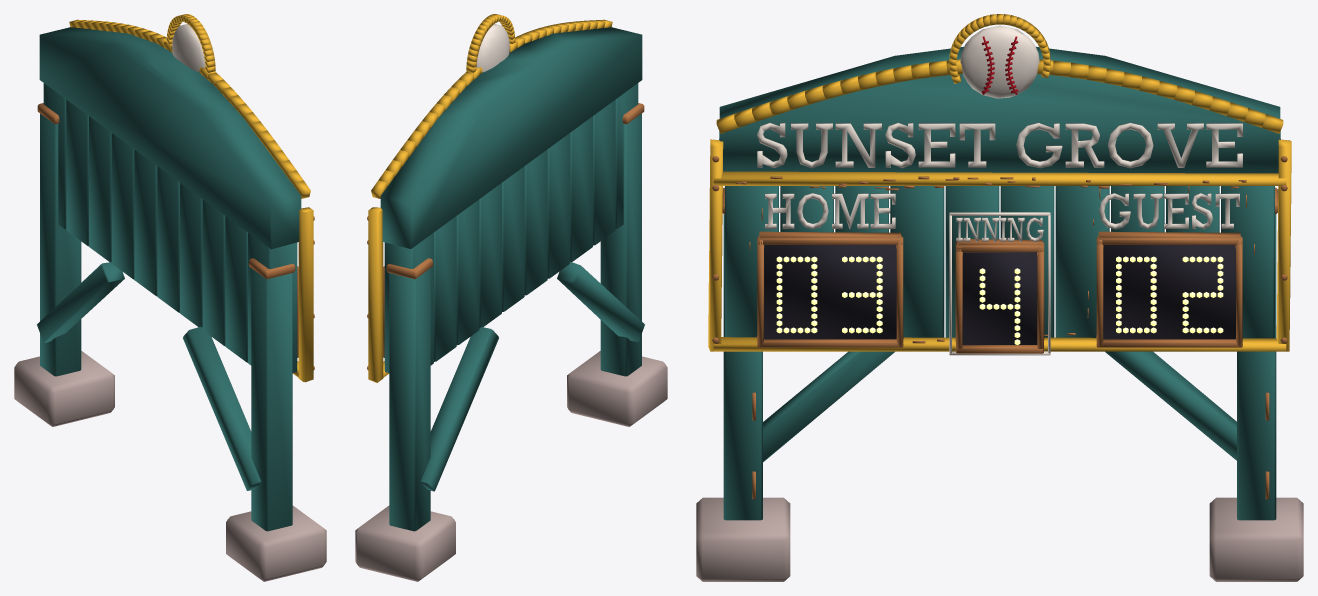
The picture shows the model from 3 angles, left to right: view 1: azimuth 30°, elevation 25°; view 2: azimuth 150°, elevation 25°; view 3: azimuth 270°, elevation 25°; orthographic projection. The views are drawn at different scales.
Visible parts, largest first — view 1: body; view 2: body; view 3: body.
Boxes of the visible parts, box(x1,y1,x2,y2) form: body: box(14, 14, 326, 581); body: box(355, 14, 667, 581); body: box(696, 14, 1303, 581).
Bounding box in the file's own units: 0.6514 × 4.27 × 4.19.
